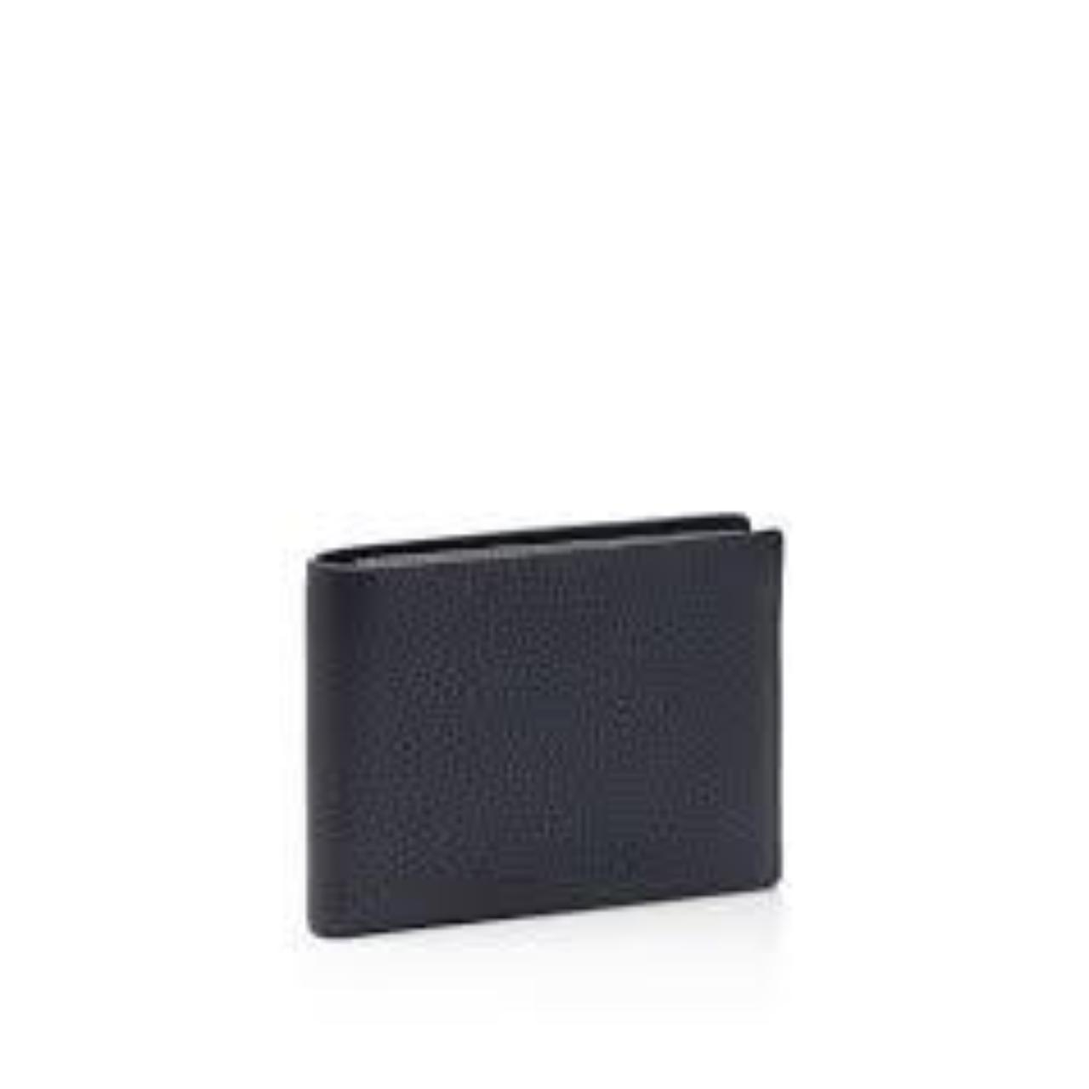wallet: (268, 513, 853, 969)
